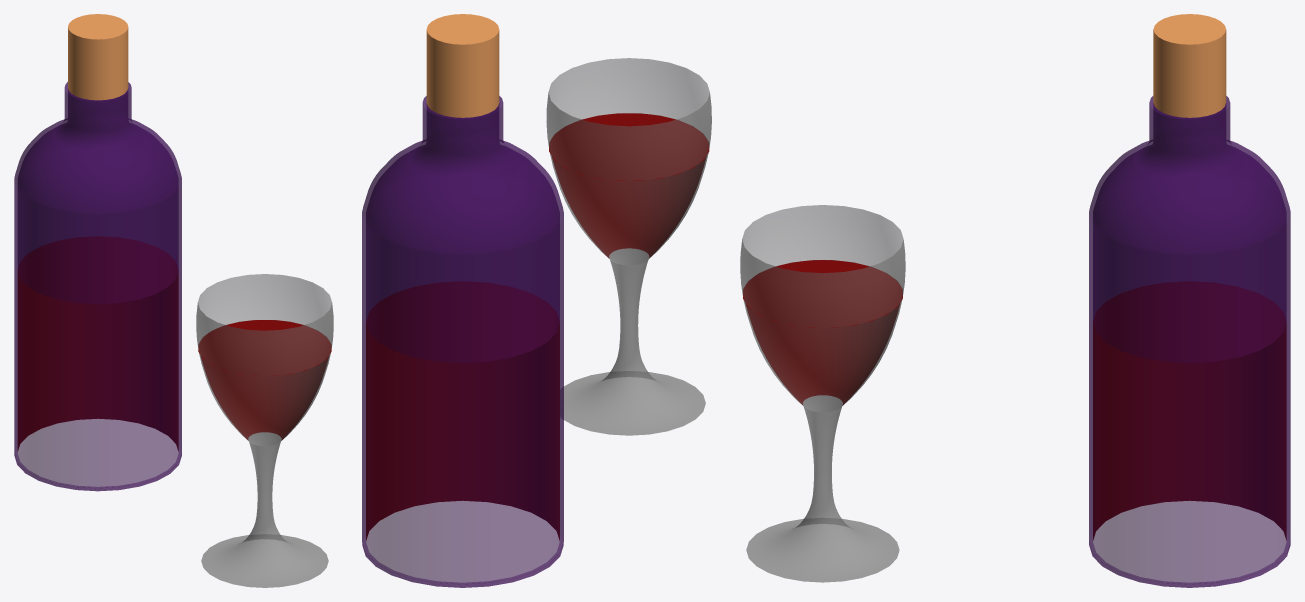
The picture shows the model from 3 angles, left to right: view 1: azimuth 30°, elevation 25°; view 2: azimuth 150°, elevation 25°; view 3: azimuth 270°, elevation 25°; orthographic projection. The views are drawn at different scales.
Visible parts, largest first — view 1: Mesh1_glass_w__wine1_Model; view 2: Mesh1_glass_w__wine1_Model; view 3: Mesh1_glass_w__wine1_Model.
Boxes of the visible parts, bbox=[...] form: Mesh1_glass_w__wine1_Model: bbox=[14, 14, 333, 587]; Mesh1_glass_w__wine1_Model: bbox=[362, 14, 711, 587]; Mesh1_glass_w__wine1_Model: bbox=[740, 14, 1290, 587].
Size of the model in its own units: 0.3845 by 1.08 by 1.04.
